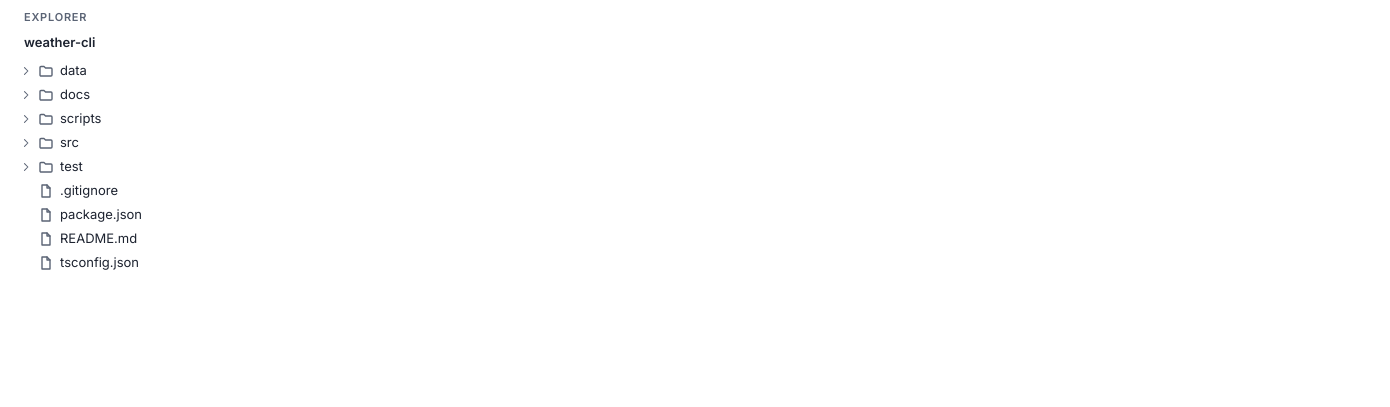
Scenario: ExplorerContextMenu › F2 on a nested row opens the rename field with its name
Expected: the button with test id "tree-row-package.json" is shown, 12,203 -> 1378,227
Click the button with test id "tree-row-src" at (26,143), box 12,131 -> 1378,155
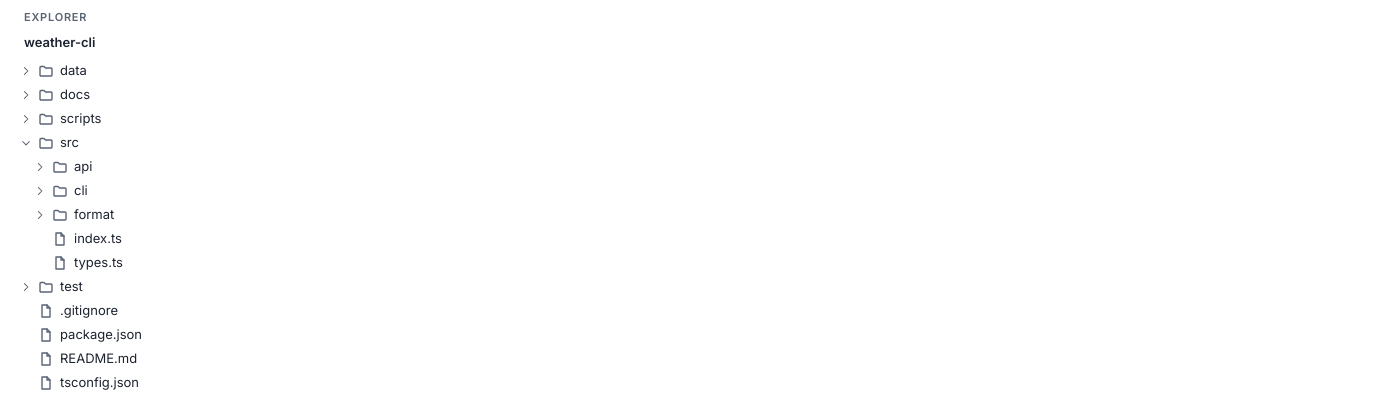
Press F2 in the button with test id "tree-row-index.ts", box 12,227 -> 1378,251
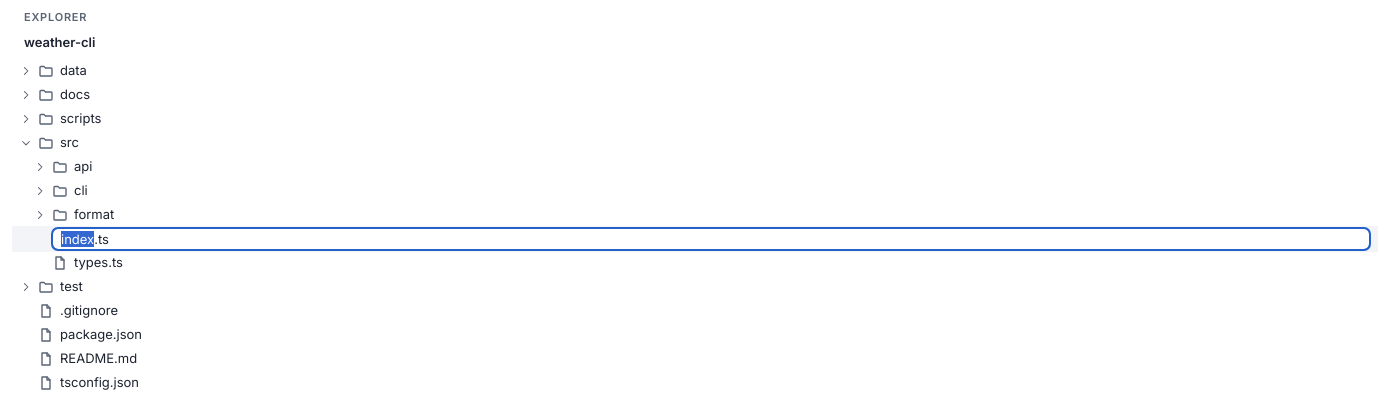
Now the field with test id "explorer-name-input" holds "index.ts", box 52,228 -> 1370,250
